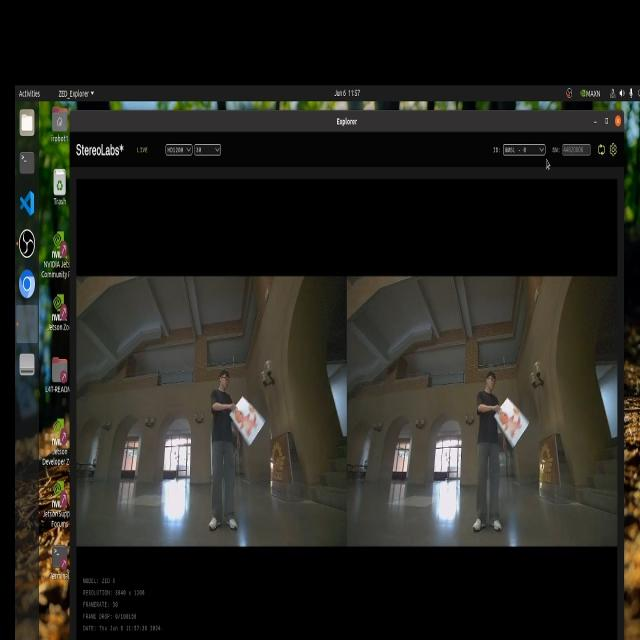red: (229, 402, 265, 444), (497, 402, 527, 450)
